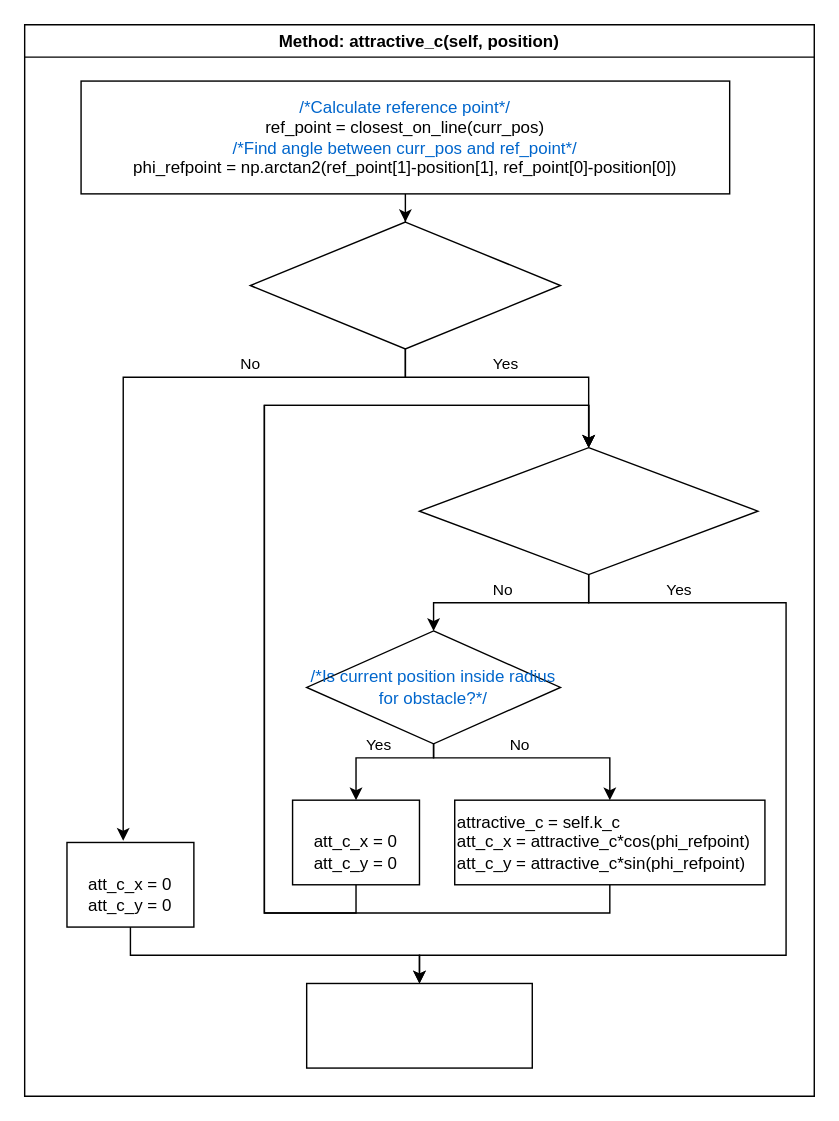
Image size: 839x1121. Some labels were removed from this diagram. The shapes that lost their labels are listed below. From the top down, each one's box as (x1, y1, x2, y2) in pixels, then its label:
(249, 221, 560, 349): /*Are obstacles present?*/ if len(self.obstacles) > 0
(418, 446, 758, 575): /*Iterating through obstacle list*/ Last obstacle accounted for?
(305, 982, 532, 1068): return att_c_x, att_c_y
